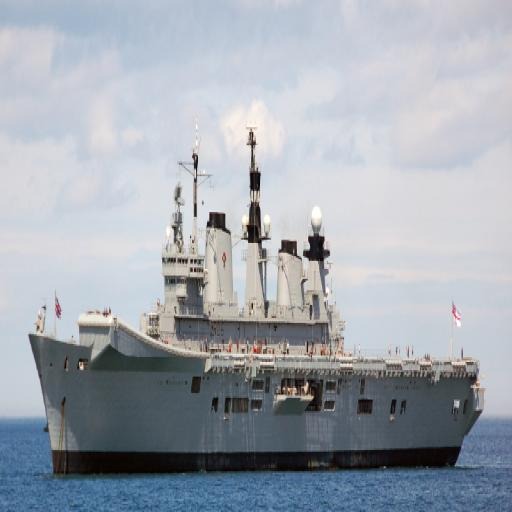Portanaves: (27, 119, 486, 484)
